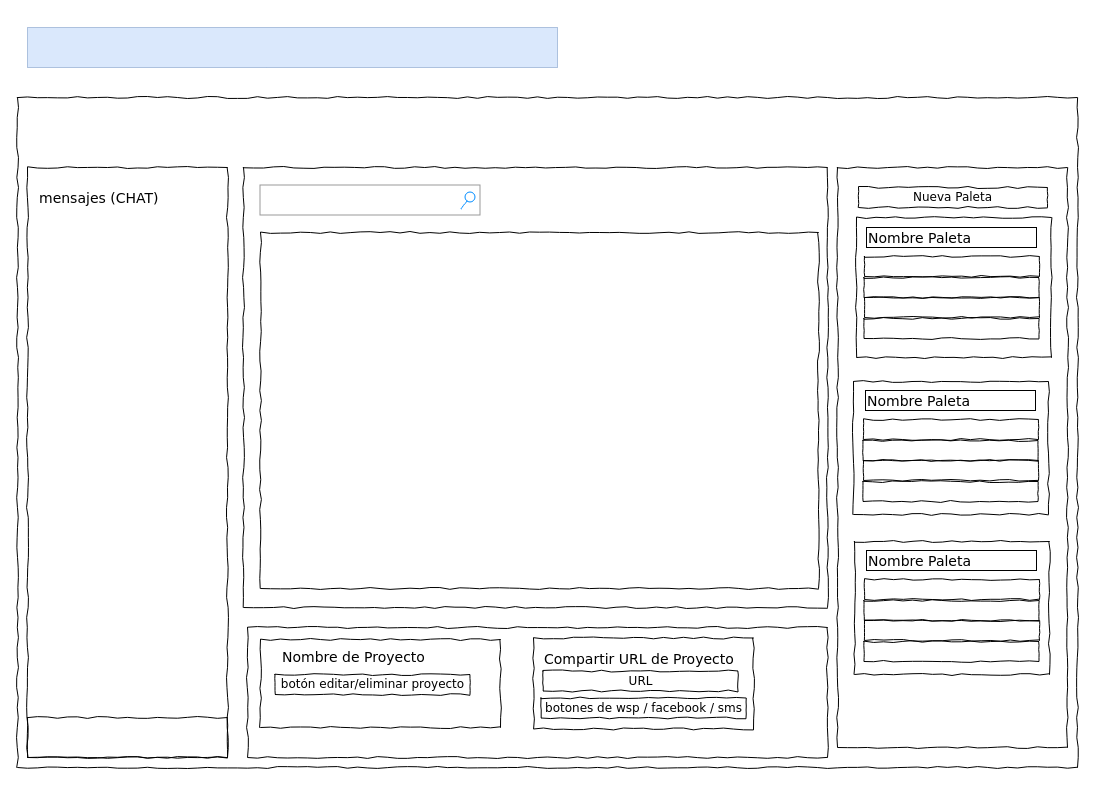
Some shapes in this 1095 by 785 pixel diagram are drawn without their labels. Each missing label, with the centre of its shape:
"buscador de colores" goes at (x=369, y=199).
"escribir mensaje (CHAT)" goes at (x=127, y=737).
"GRILLA DE COLORES" goes at (x=539, y=410).
"PROYECTO PALETA COLABORATIVA" goes at (x=292, y=47).
